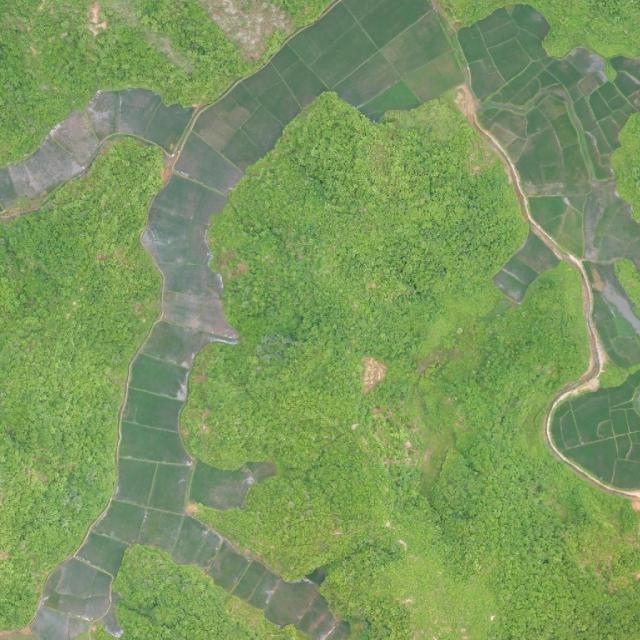agricultural_land: (168, 0, 467, 191), (40, 552, 120, 624), (137, 207, 217, 276), (173, 132, 250, 199), (587, 280, 640, 371), (152, 170, 227, 233), (158, 286, 245, 340), (15, 136, 82, 204), (142, 314, 217, 374), (49, 105, 111, 168), (188, 461, 256, 515), (264, 570, 321, 634), (141, 93, 196, 154), (118, 422, 194, 466), (170, 515, 225, 575), (126, 352, 193, 401), (122, 387, 185, 433), (81, 85, 132, 141), (232, 558, 284, 612), (156, 258, 226, 298), (94, 495, 148, 546), (201, 541, 252, 593), (113, 85, 163, 138), (78, 526, 131, 575), (148, 461, 190, 514), (137, 505, 183, 553), (112, 459, 156, 507), (96, 592, 137, 640), (6, 162, 38, 203), (0, 169, 18, 208), (246, 462, 276, 482), (325, 621, 351, 639)
greenland: (0, 0, 334, 168)
